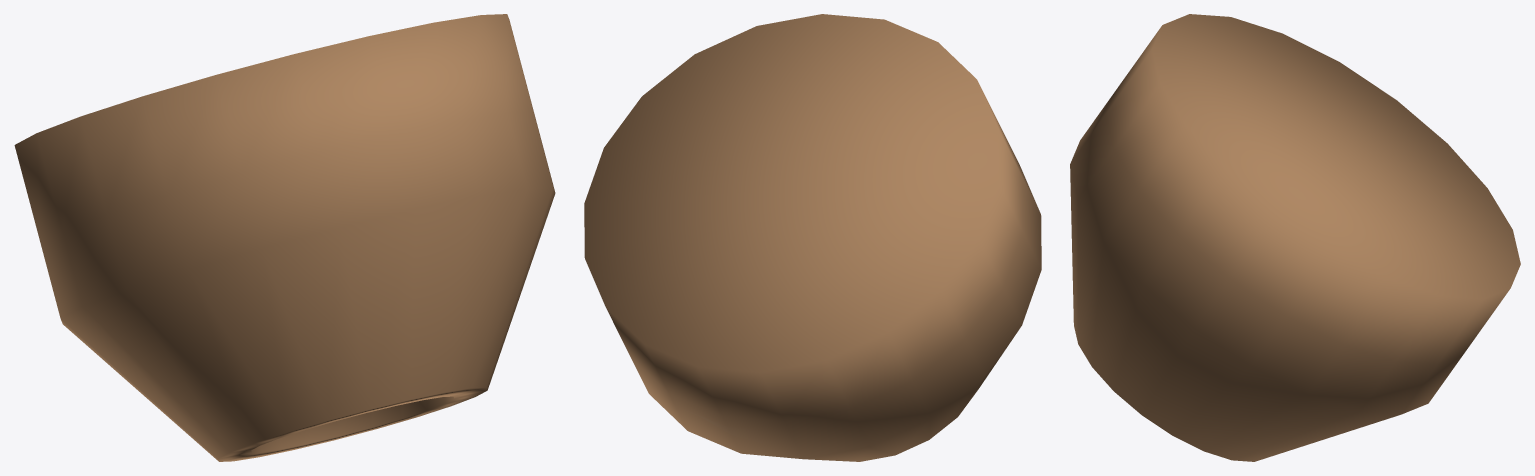
File: sage_weapon1.fbx
3 views of the same model, side by side, from view 1: azimuth 30°, elevation 25°; view 2: azimuth 150°, elevation 25°; view 3: azimuth 270°, elevation 25° (orthographic). The views are drawn at different scales.
Visible parts, largest first — view 1: pCylinder1; view 2: pCylinder1; view 3: pCylinder1.
Boxes of the visible parts, bbox=[...] form: pCylinder1: bbox=[14, 14, 555, 461]; pCylinder1: bbox=[584, 14, 1041, 461]; pCylinder1: bbox=[1070, 14, 1520, 461].
Bounding box in the file's own units: 6.03 × 5.98 × 6.18.
